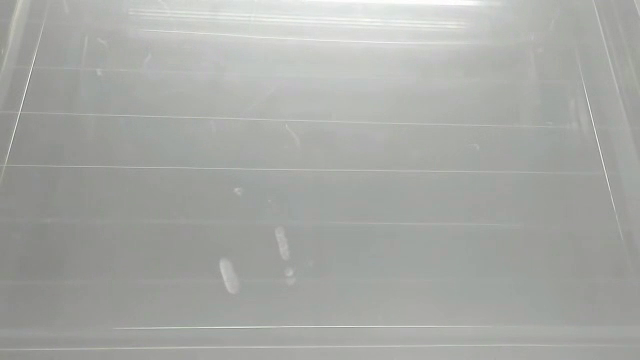alpha: (272, 221, 300, 289), (216, 253, 246, 295)
